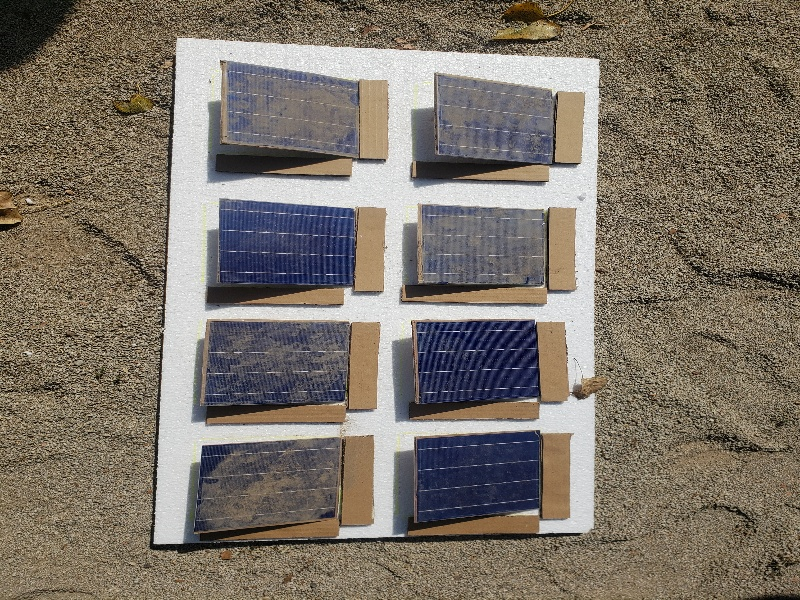clean: (216, 196, 360, 287), (408, 434, 547, 524), (411, 321, 544, 401)
dirty: (193, 435, 341, 533), (215, 61, 363, 158), (198, 313, 357, 403), (413, 202, 555, 291), (434, 72, 563, 166)
